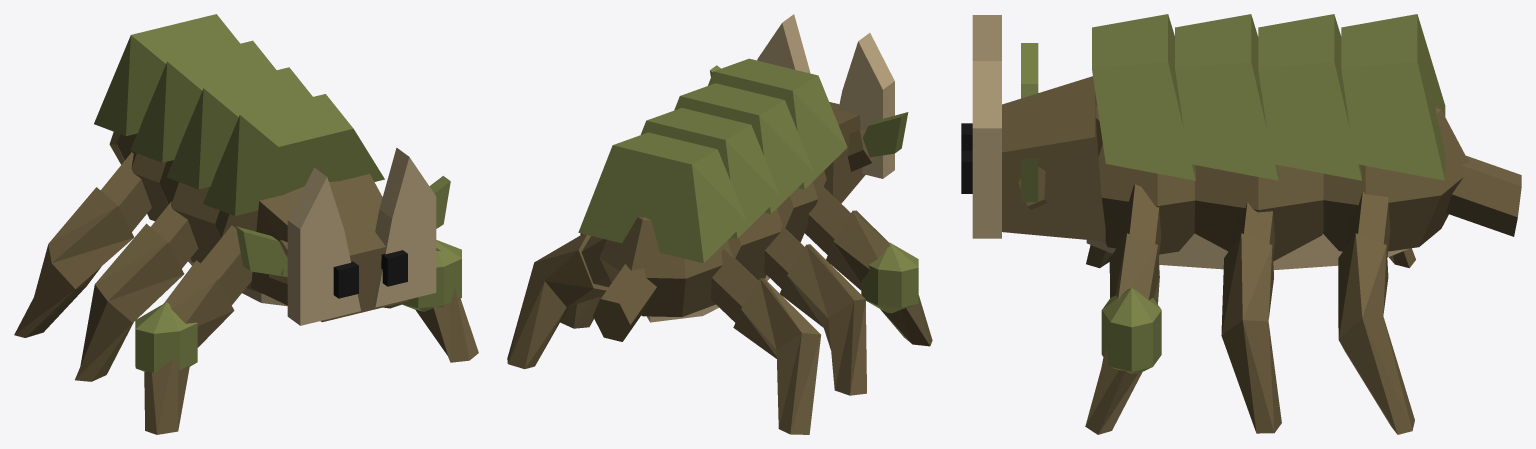
Rendered from furrowisp.glb.
The picture shows the model from 3 angles, left to right: view 1: azimuth 30°, elevation 25°; view 2: azimuth 150°, elevation 25°; view 3: azimuth 270°, elevation 25°; orthographic projection. The views are drawn at different scales.
Visible parts, largest first — view 1: Furrowisp; view 2: Furrowisp; view 3: Furrowisp.
Part boxes in pixels (left/top/right/bottom): Furrowisp: left=14, top=14, right=478, bottom=434; Furrowisp: left=507, top=14, right=932, bottom=434; Furrowisp: left=961, top=14, right=1521, bottom=434.
Bounding box in the file's own units: 0.78 × 0.6 × 1.
